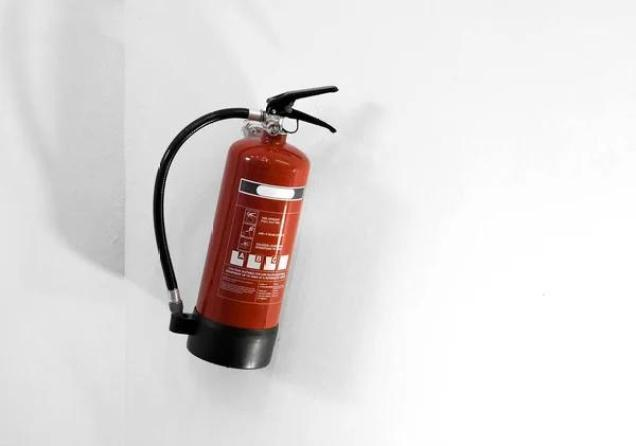APAR: (183, 84, 339, 373)
